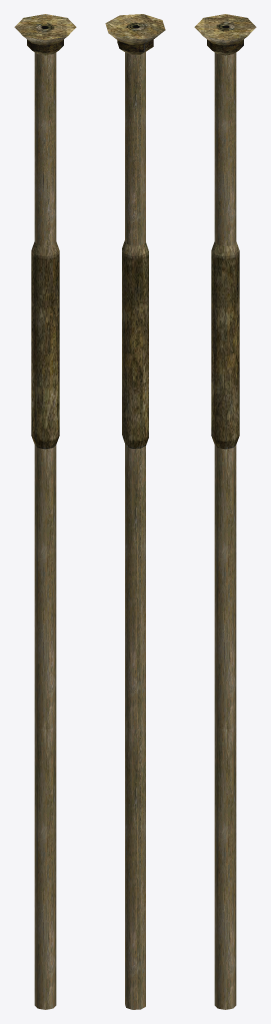
Rendered from frn_all_glow_light_s1_l0.fbx.
The picture shows the model from 3 angles, left to right: view 1: azimuth 90°, elevation 25°; view 2: azimuth 210°, elevation 25°; view 3: azimuth 270°, elevation 25°; orthographic projection.
Visible parts, largest first — view 1: mesh_node; view 2: mesh_node; view 3: mesh_node.
Boxes of the visible parts, left/top/right/bottom form: mesh_node: left=14, top=14, right=76, bottom=1009; mesh_node: left=105, top=14, right=165, bottom=1009; mesh_node: left=194, top=14, right=256, bottom=1009.
Size of the model in its own units: 0.1388 by 2.4 by 0.1388.
Materials: 1 (1 with a texture image).
